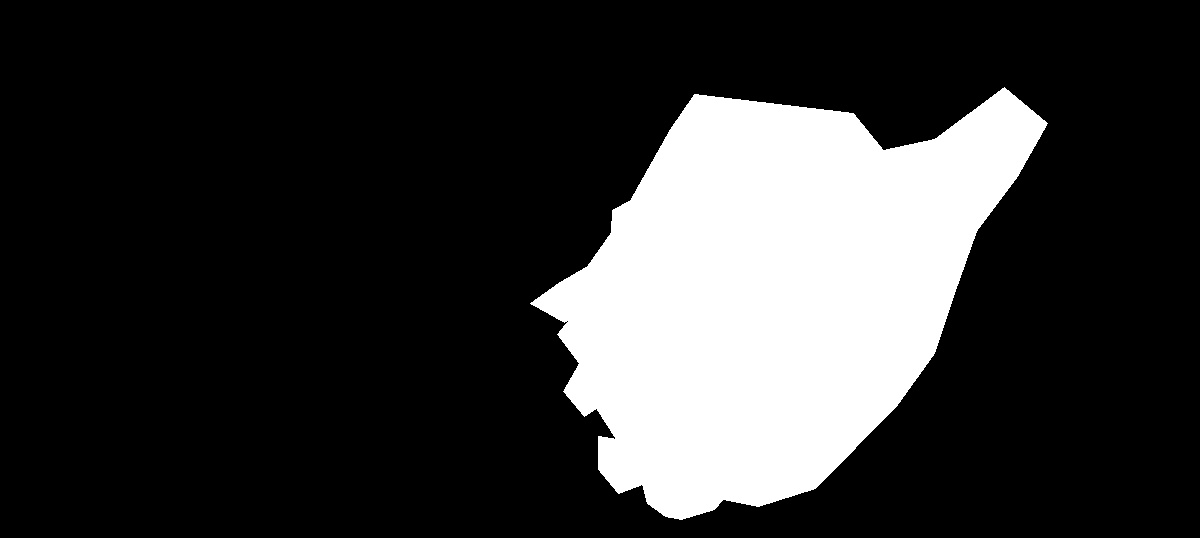Fire: (596, 340, 767, 469)
